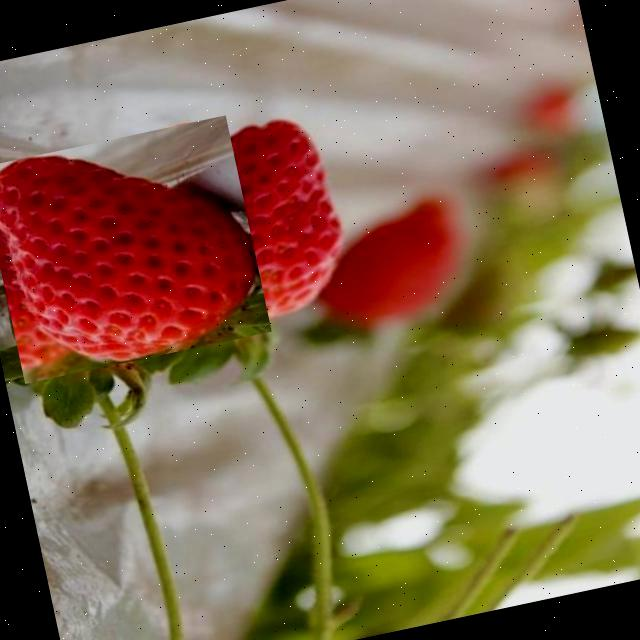ripe: (0, 114, 273, 383), (178, 110, 358, 330)
